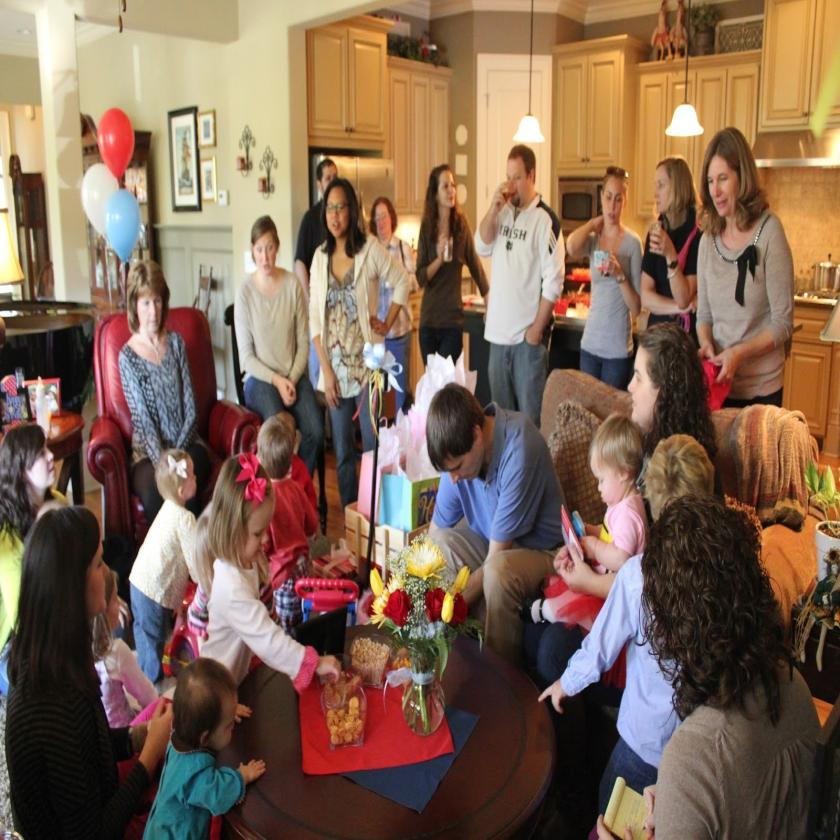Sin_casco: (28, 496, 111, 631), (626, 315, 712, 433), (424, 374, 493, 499), (175, 656, 246, 765), (586, 409, 650, 516), (701, 125, 756, 240), (4, 424, 60, 513), (128, 262, 175, 345), (646, 154, 694, 229), (427, 158, 462, 232), (246, 214, 285, 278), (596, 162, 627, 238), (505, 142, 539, 211), (321, 174, 351, 250), (368, 192, 398, 246)
